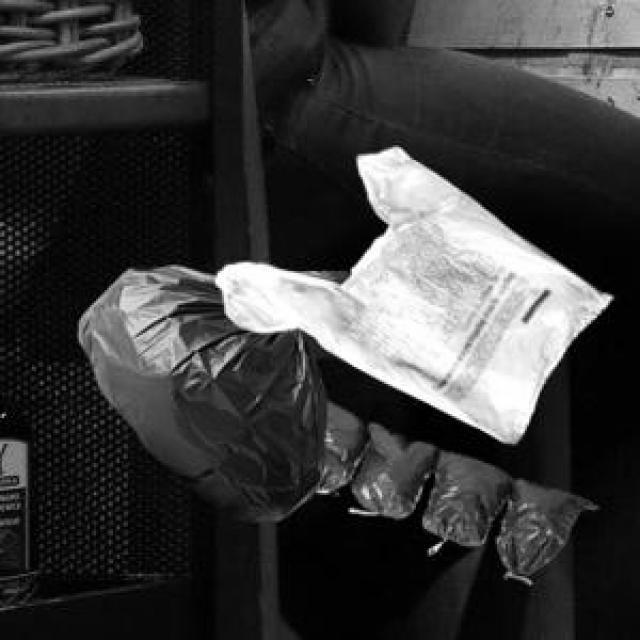miscellaneous trash: (75, 262, 322, 516), (312, 397, 593, 572)
